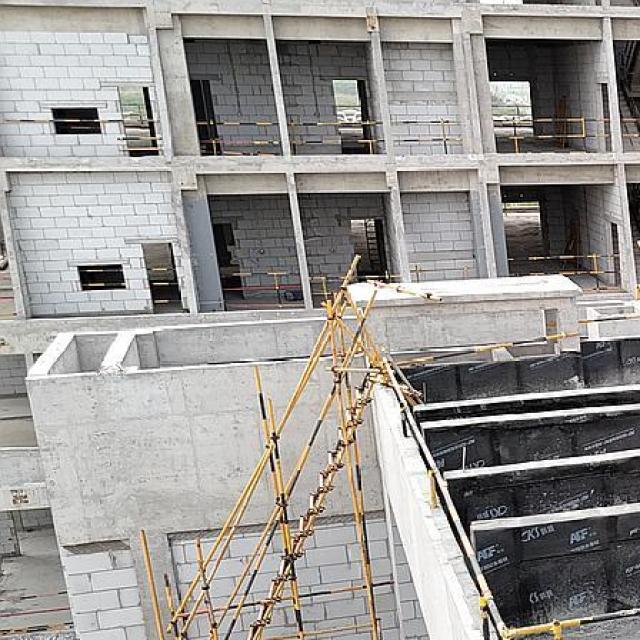edge_guardrail: (381, 355, 639, 640), (394, 331, 580, 365), (0, 118, 161, 151), (493, 114, 611, 153), (507, 252, 622, 289), (78, 268, 182, 303), (287, 119, 386, 155), (196, 116, 281, 155), (308, 268, 402, 301), (0, 591, 71, 631), (219, 272, 302, 304), (390, 118, 463, 153), (578, 315, 640, 323), (120, 104, 147, 119), (620, 118, 640, 138), (492, 104, 532, 114), (336, 105, 361, 116)
